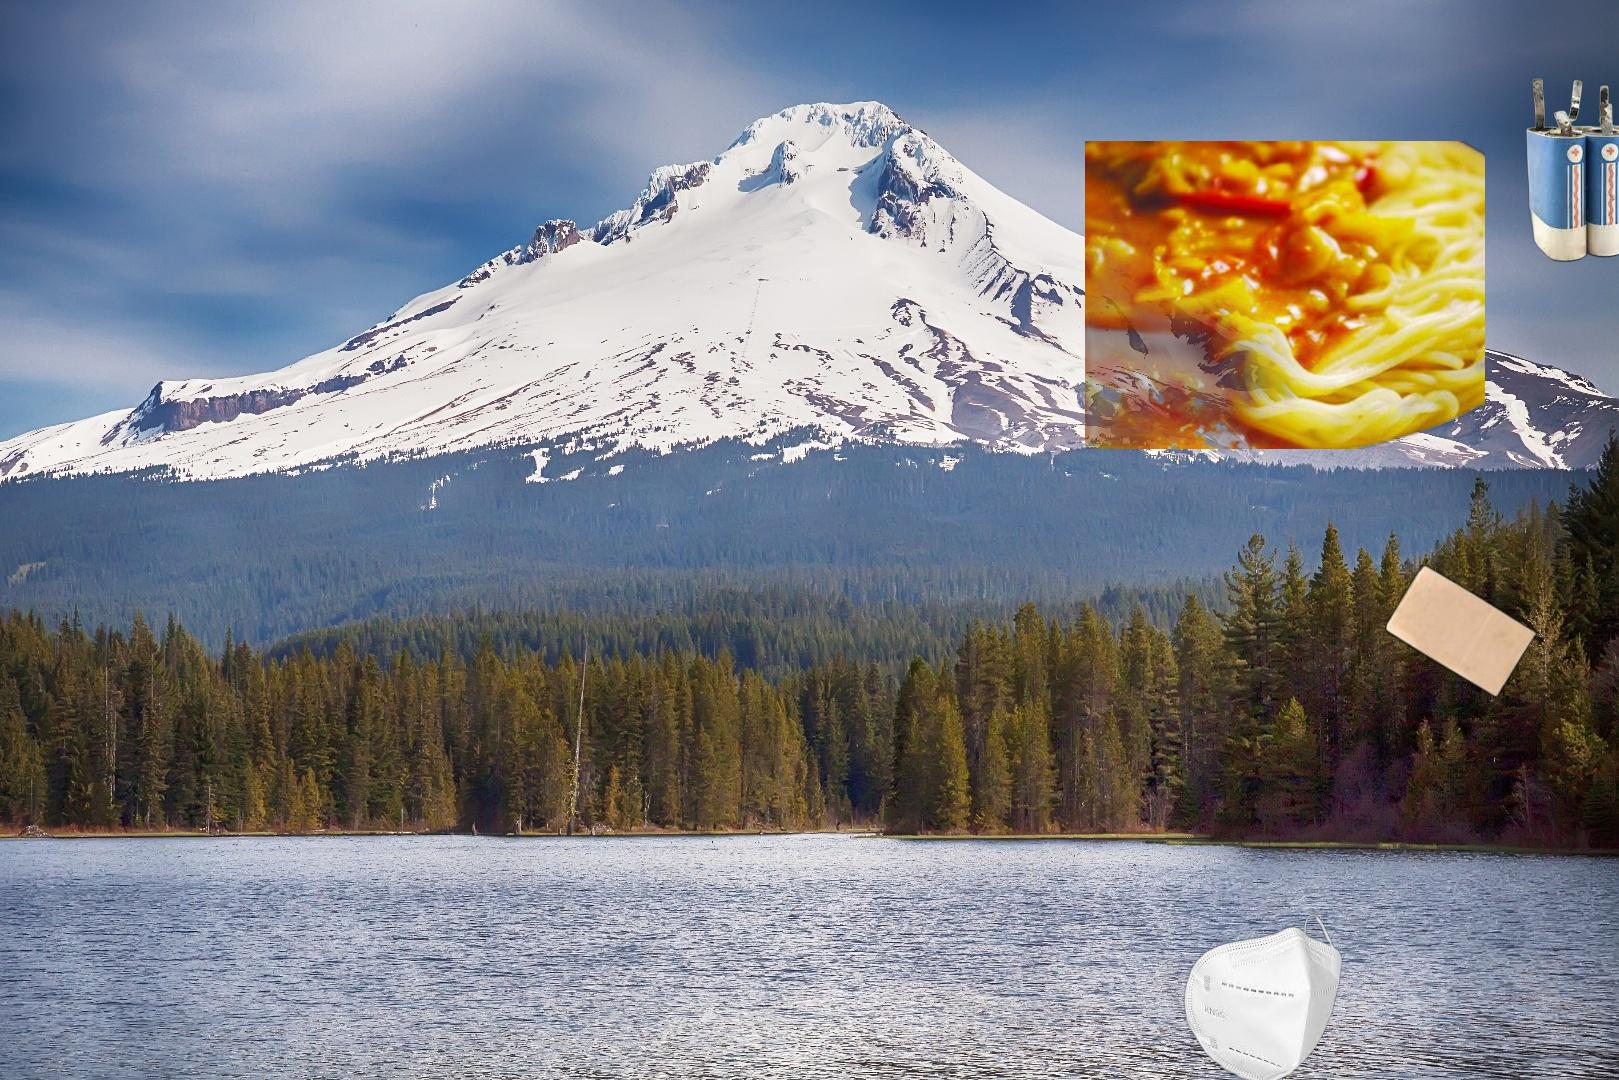battery: (1523, 75, 1619, 264)
biological: (1085, 141, 1485, 450)
paper-bag: (1275, 548, 1576, 818)
trash: (1154, 912, 1345, 1080)
trashbox-cardboard: (1539, 202, 1619, 601)
